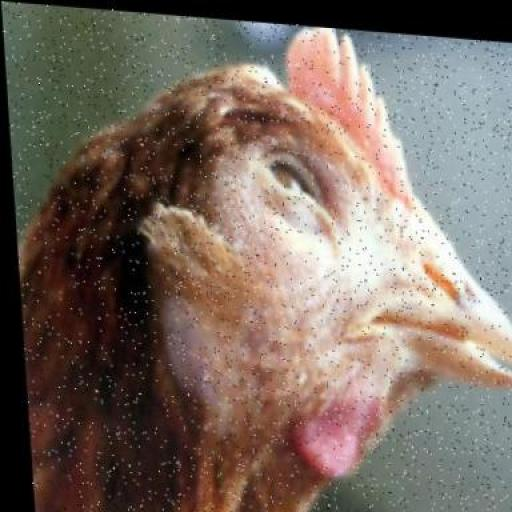disease: (217, 106, 406, 290), (320, 211, 442, 324), (249, 143, 366, 260)
